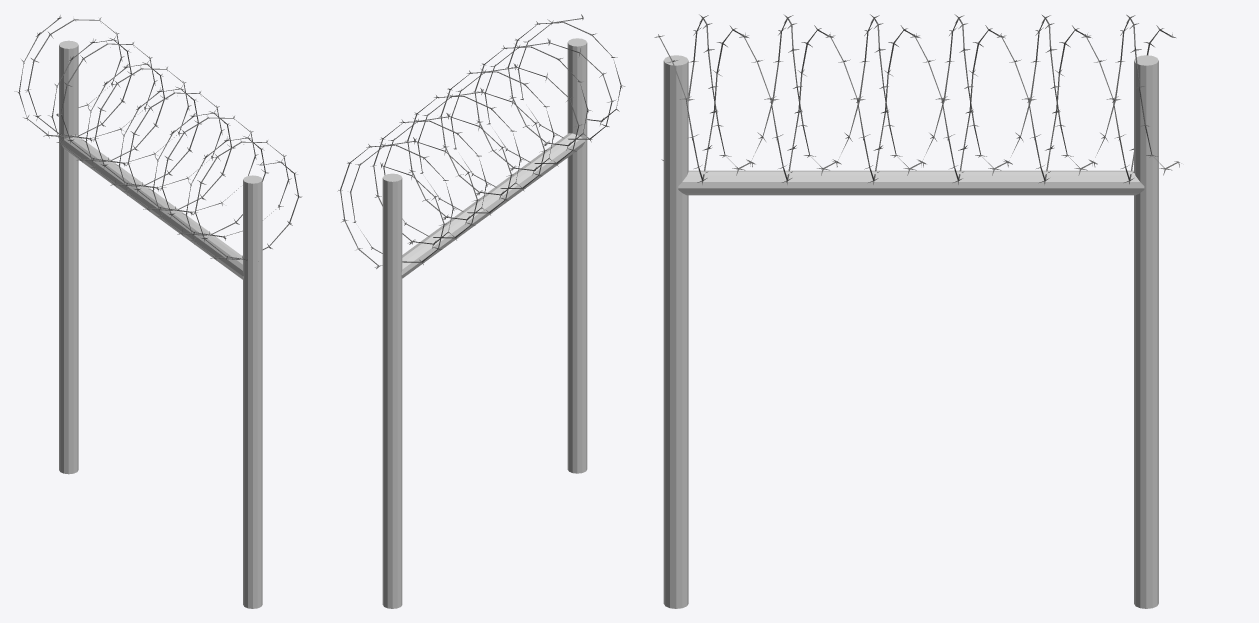
The model's file is Metal_Fence_021.fbx.
3 renders of one model, left to right at view 1: azimuth 30°, elevation 25°; view 2: azimuth 150°, elevation 25°; view 3: azimuth 270°, elevation 25°, orthographic. The views are drawn at different scales.
Parts seen in each view (by area): view 1: Metal Fence.021; view 2: Metal Fence.021; view 3: Metal Fence.021.
Boxes of the visible parts, left/top/right/bottom form: Metal Fence.021: left=14, top=15, right=302, bottom=608; Metal Fence.021: left=337, top=14, right=625, bottom=608; Metal Fence.021: left=654, top=14, right=1181, bottom=608.
Size of the model in its own units: 168 by 666 by 612.
